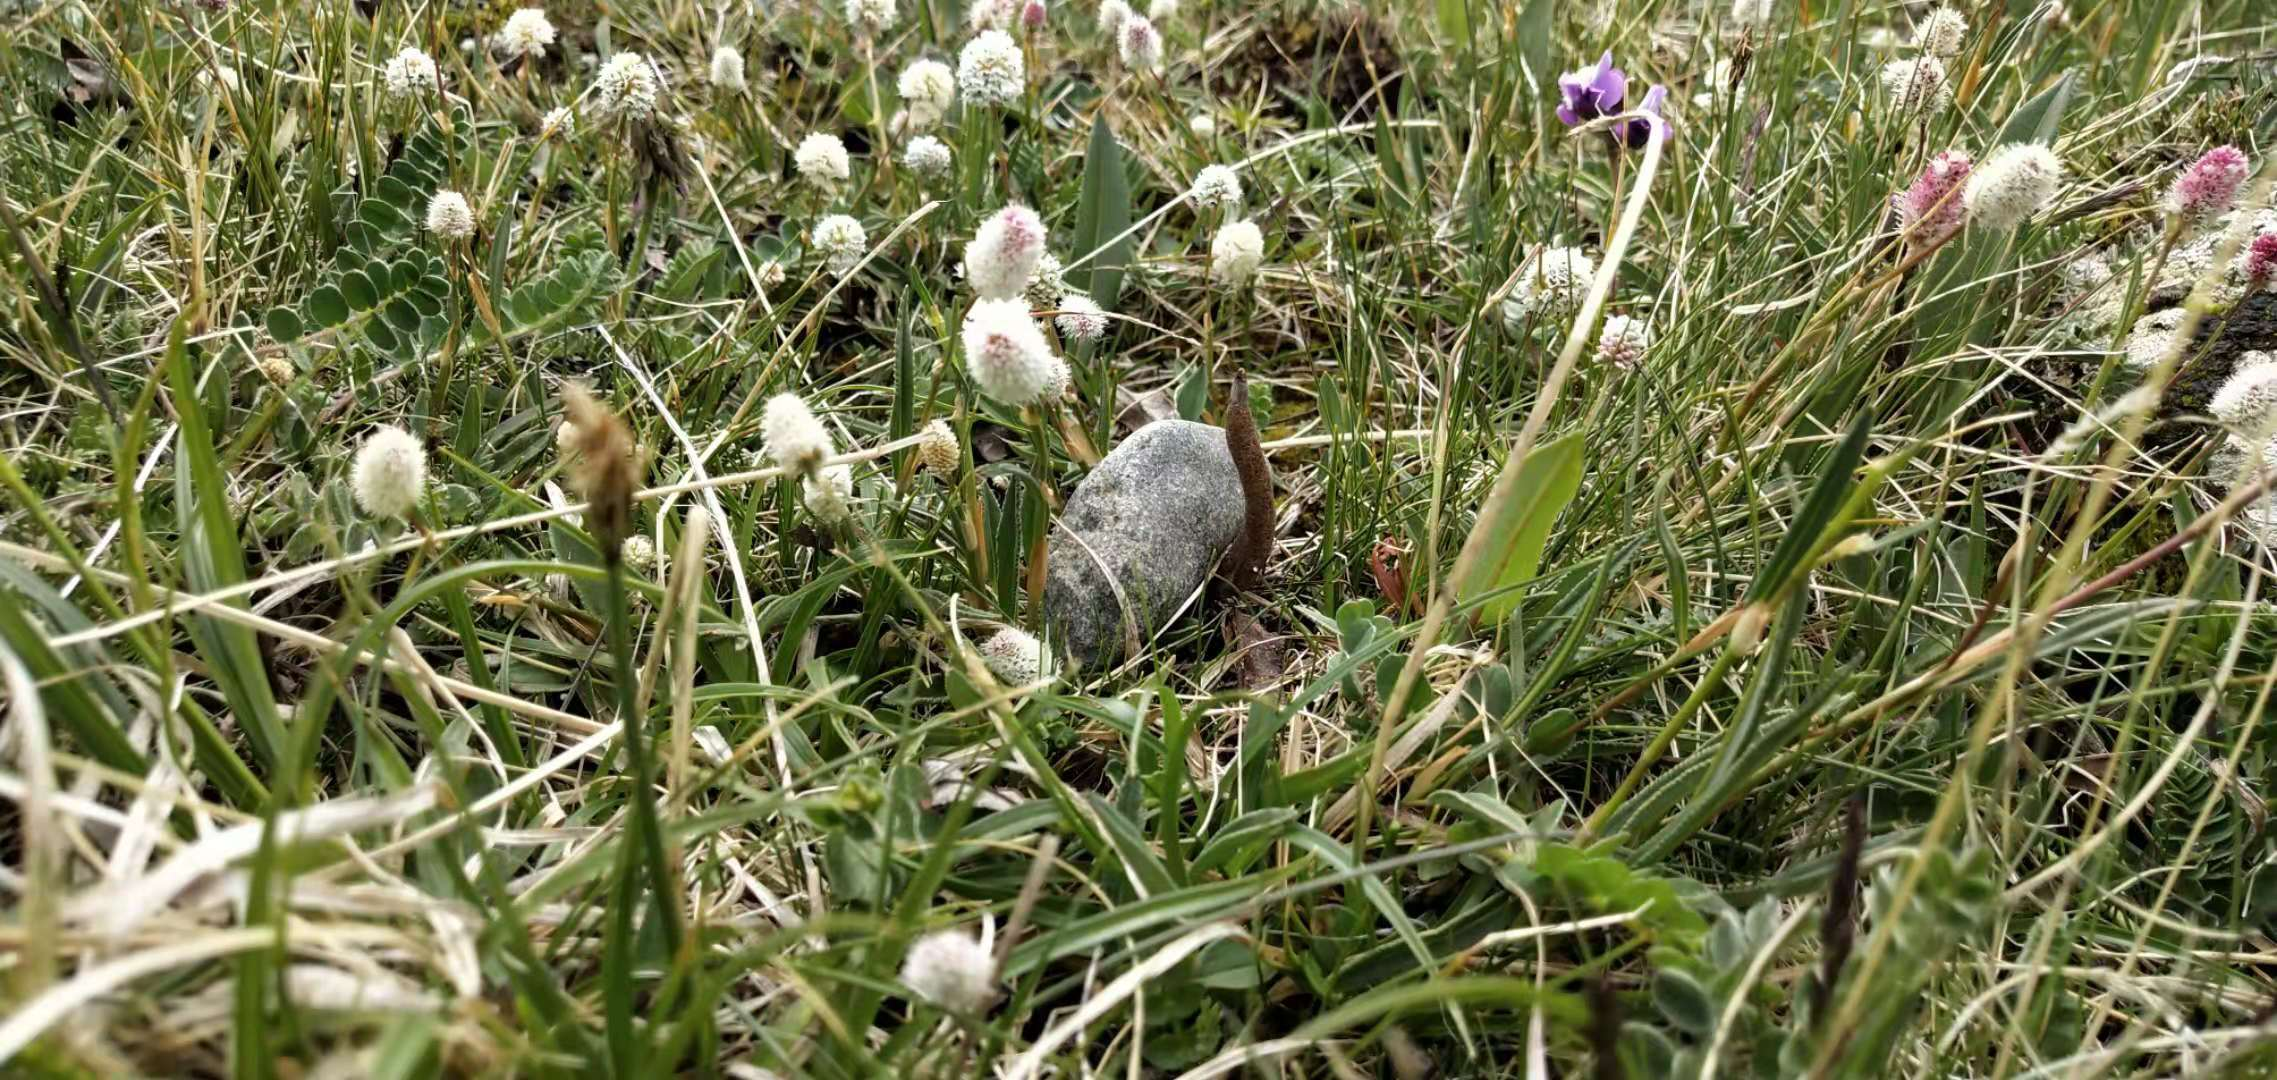cpf: (1223, 375, 1276, 600)
